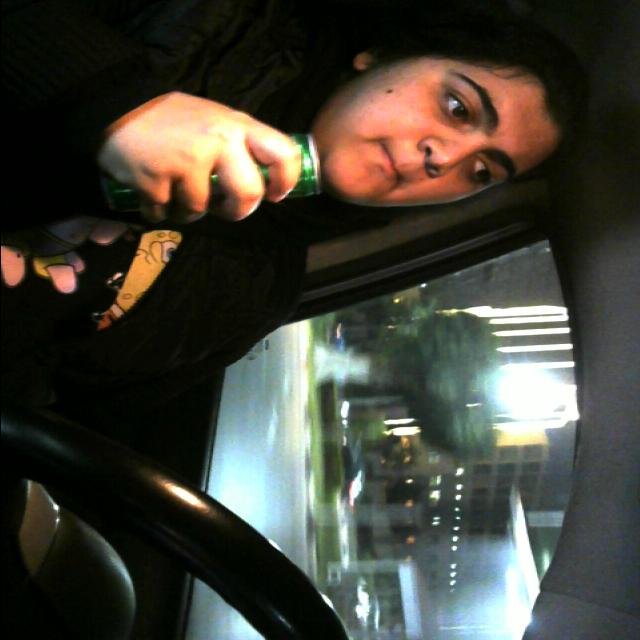drinking: (93, 134, 320, 215)
